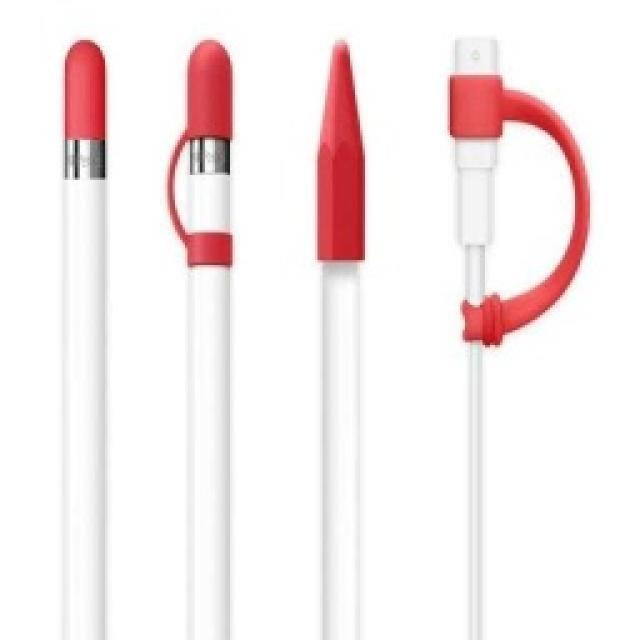pencil: (442, 32, 592, 348)
